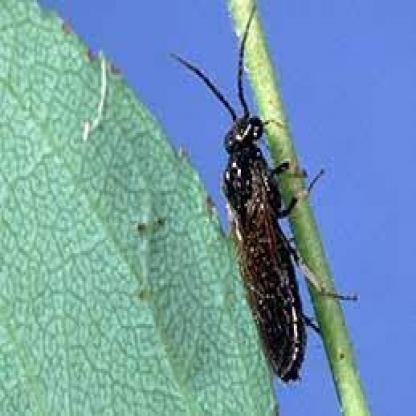sawfly: (168, 9, 360, 383)
